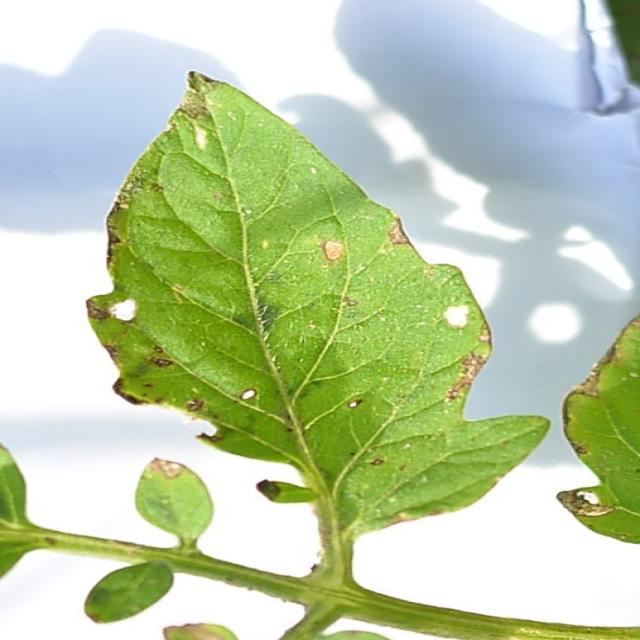infected: (87, 84, 508, 444), (546, 310, 636, 530), (139, 458, 195, 486), (248, 476, 289, 506)
